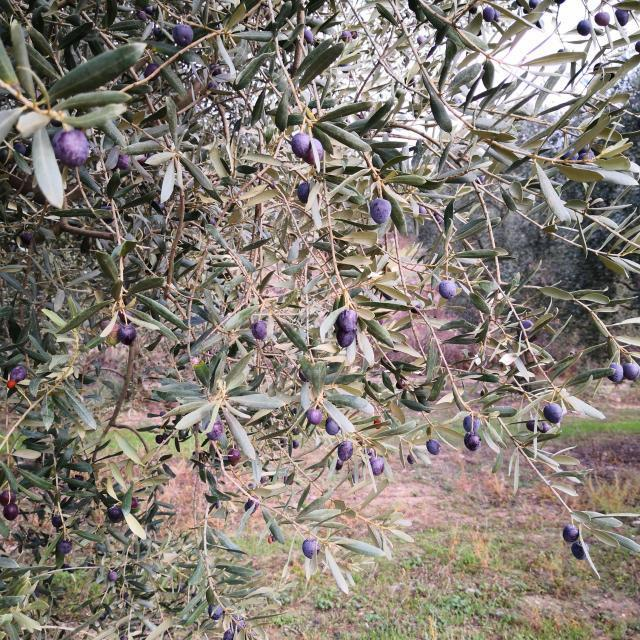OlivePeacockSpot: (190, 356, 210, 388)
